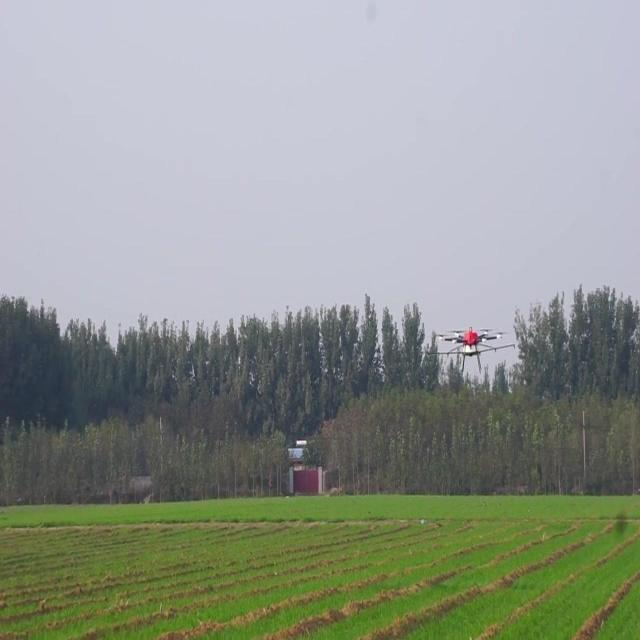drone: (436, 322, 509, 377)
